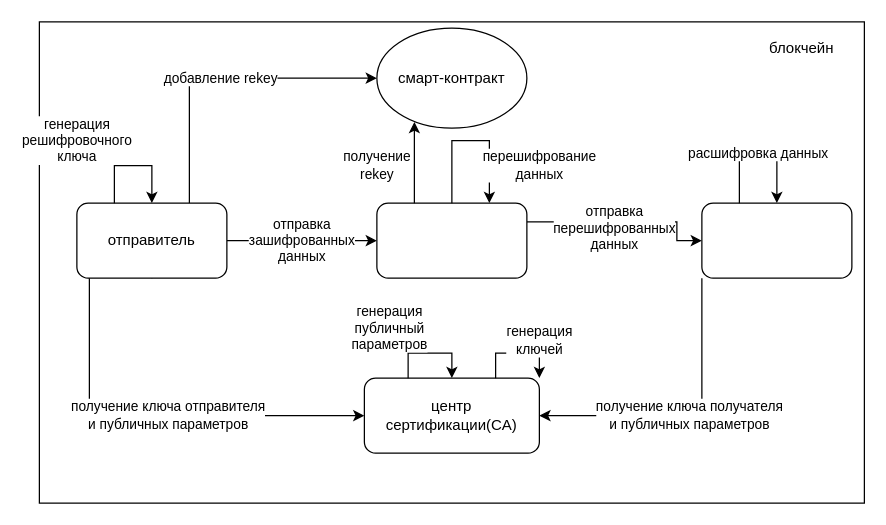
The diagram is 886 pixels wide and 525 high, and some of its shapes have lost their labels. Here are the shapes that lost their labels. From the top down, the centre of each, then its label:
At point (451, 240): "прокси сервер".
At point (776, 240): "получатель".
